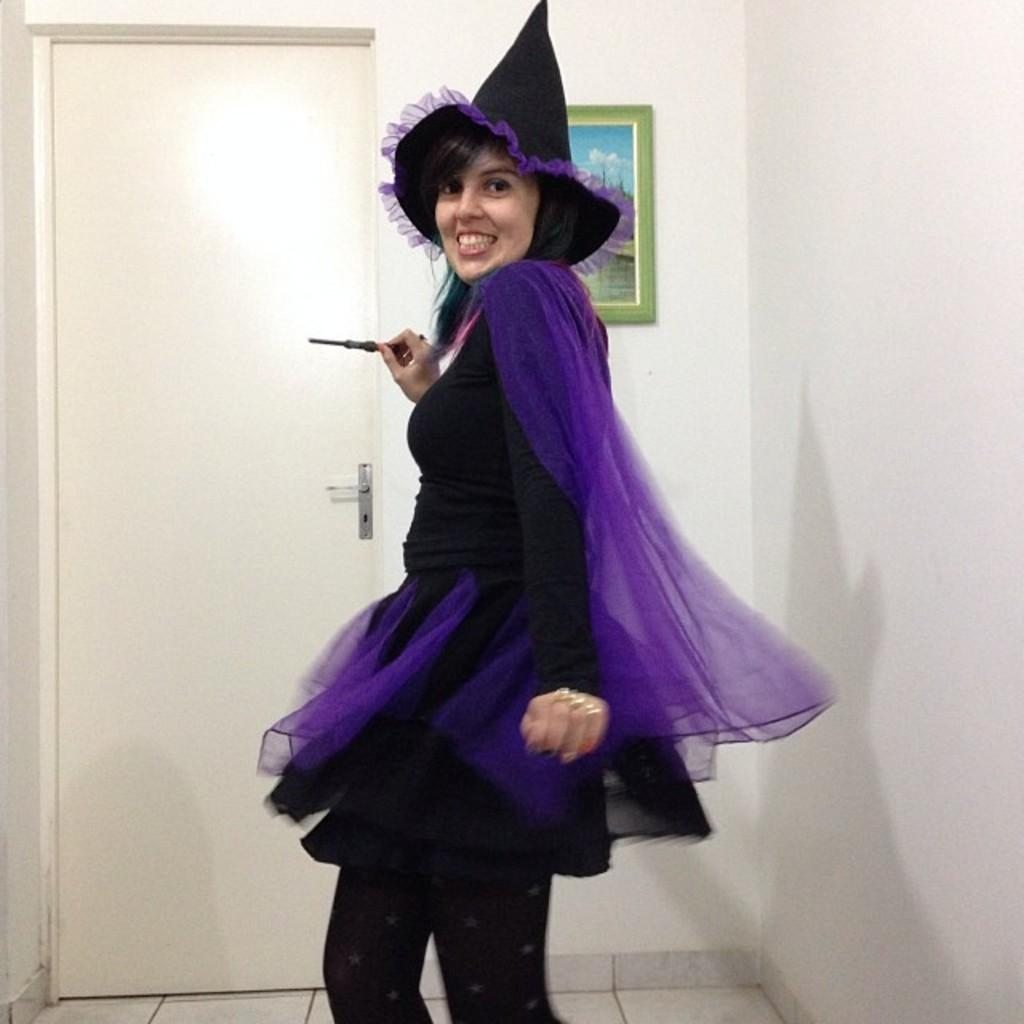Hat: (382, 0, 635, 267)
